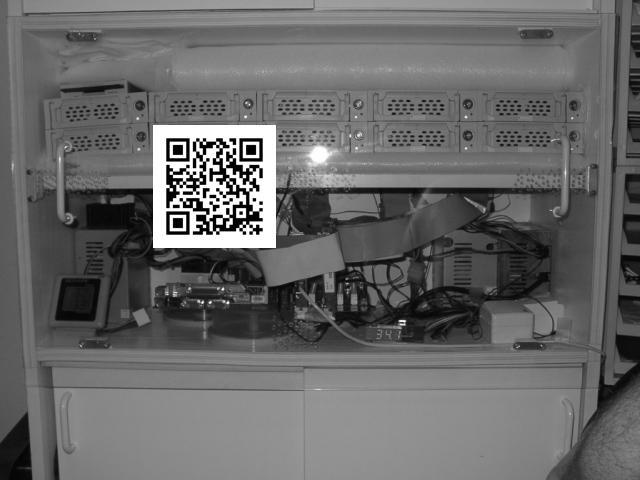qr_code: (154, 125, 275, 247)
